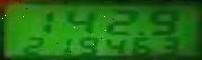-: (133, 28, 144, 34)
1: (37, 7, 55, 32), (57, 35, 73, 55)
2: (101, 6, 135, 35), (19, 35, 44, 55)
3: (160, 36, 180, 55)
4: (61, 8, 95, 32), (102, 36, 124, 55)
6: (128, 36, 153, 55)
9: (146, 7, 181, 34), (75, 35, 99, 55)
